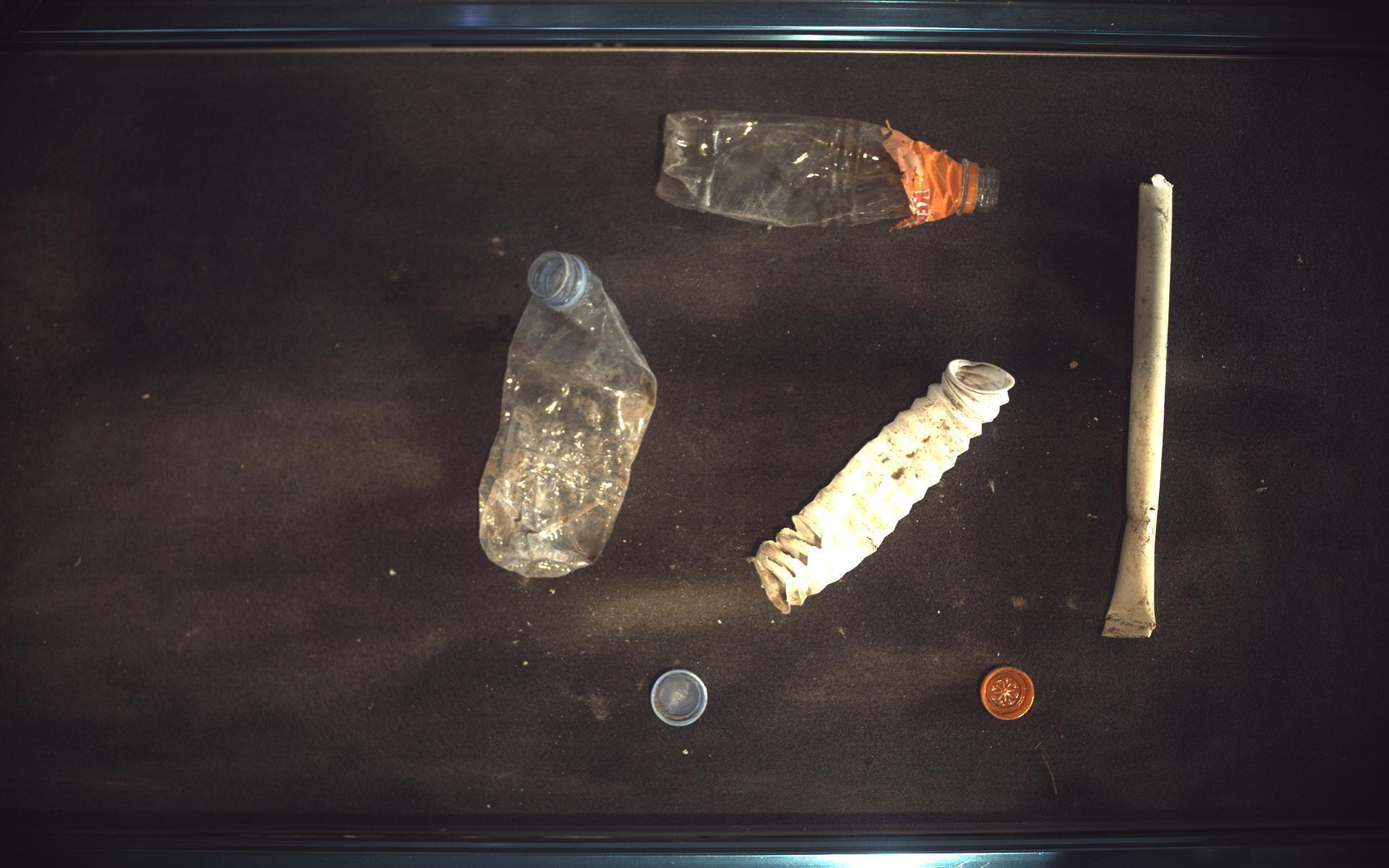general_w: (480, 250, 658, 578), (658, 109, 1001, 227), (652, 671, 709, 728), (982, 667, 1037, 722)
pipes: (1105, 174, 1176, 639)
plastic: (752, 359, 1017, 615)
